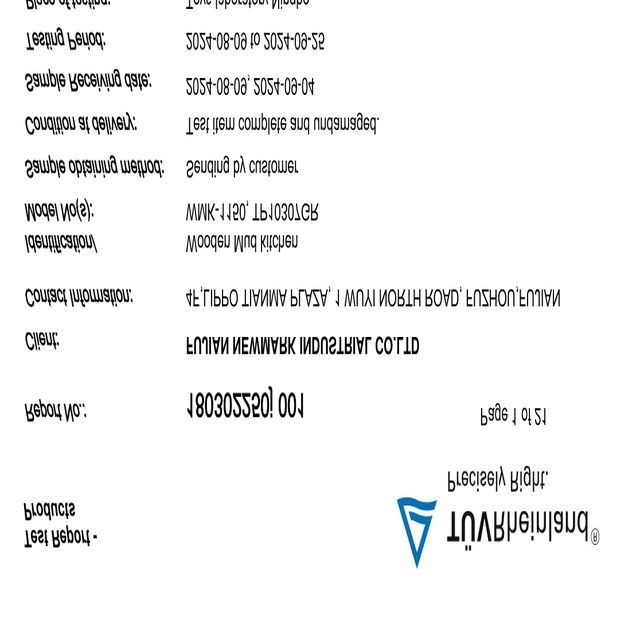tuv_rheinland: (393, 495, 600, 568)
